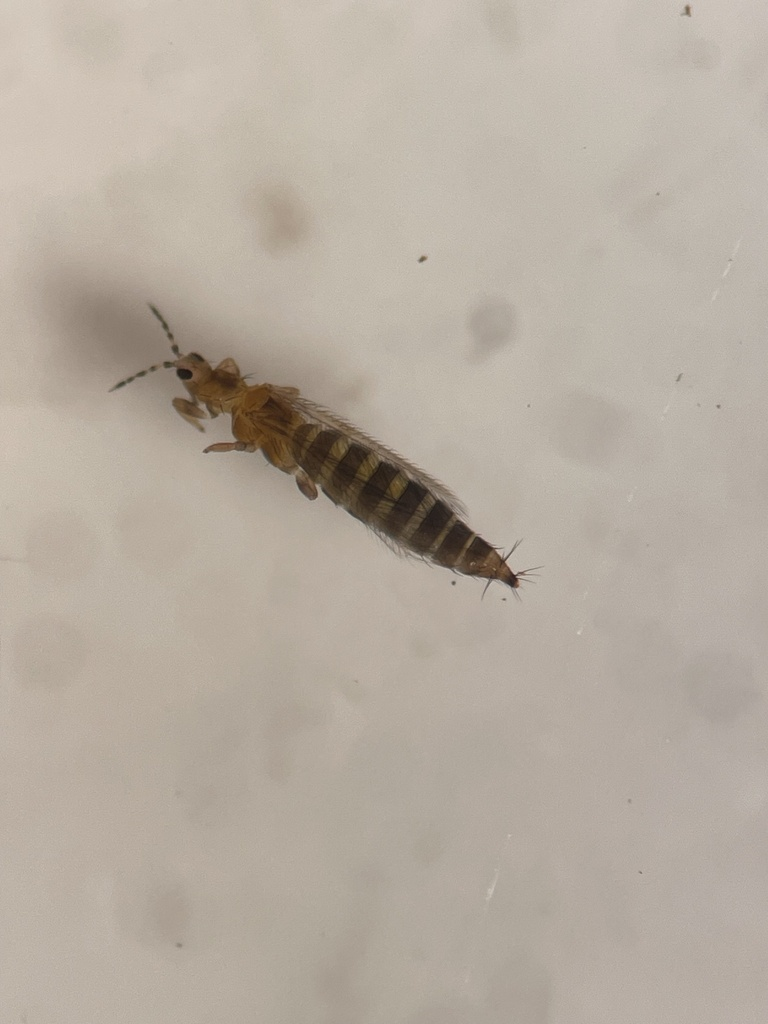tiny_pests: (41, 235, 599, 676)
